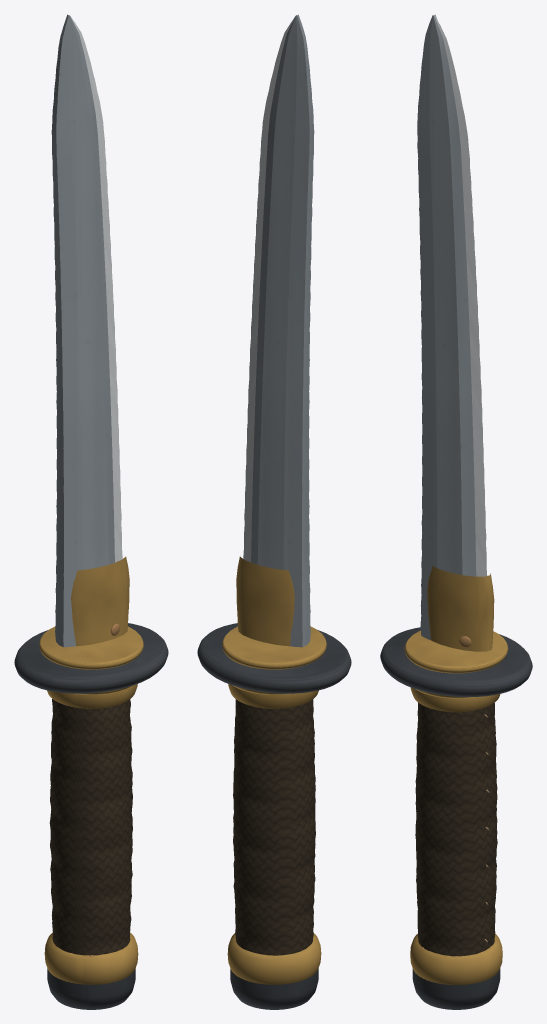
File: tanto.glb
3 views of the same model, side by side, from view 1: azimuth 30°, elevation 25°; view 2: azimuth 150°, elevation 25°; view 3: azimuth 330°, elevation 25° (orthographic).
Parts seen in each view (by area): view 1: steel / forged blade steel, cord / waxed silk cord wrap, brass / polished brass furniture, darksteel / oil-blackened fittings, edge / honed bright bevel; view 2: steel / forged blade steel, cord / waxed silk cord wrap, brass / polished brass furniture, darksteel / oil-blackened fittings, edge / honed bright bevel; view 3: steel / forged blade steel, cord / waxed silk cord wrap, brass / polished brass furniture, darksteel / oil-blackened fittings, edge / honed bright bevel.
Part boxes in pixels (bbox=[...]): steel / forged blade steel: bbox=[51, 14, 114, 647]; cord / waxed silk cord wrap: bbox=[49, 699, 132, 955]; brass / polished brass furniture: bbox=[39, 556, 143, 984]; darksteel / oil-blackened fittings: bbox=[14, 623, 168, 1009]; edge / honed bright bevel: bbox=[70, 16, 122, 562]; steel / forged blade steel: bbox=[251, 14, 314, 647]; cord / waxed silk cord wrap: bbox=[233, 699, 315, 955]; brass / polished brass furniture: bbox=[222, 556, 326, 984]; darksteel / oil-blackened fittings: bbox=[197, 623, 351, 1009]; edge / honed bright bevel: bbox=[243, 16, 295, 562]; steel / forged blade steel: bbox=[417, 14, 476, 639]; cord / waxed silk cord wrap: bbox=[415, 702, 497, 956]; brass / polished brass furniture: bbox=[404, 566, 508, 985]; darksteel / oil-blackened fittings: bbox=[380, 627, 532, 1009]; edge / honed bright bevel: bbox=[434, 15, 487, 576].
Size of the model in its own units: 0.058 by 0.3945 by 0.0476.
Materials: 7 (5 with a texture image).
